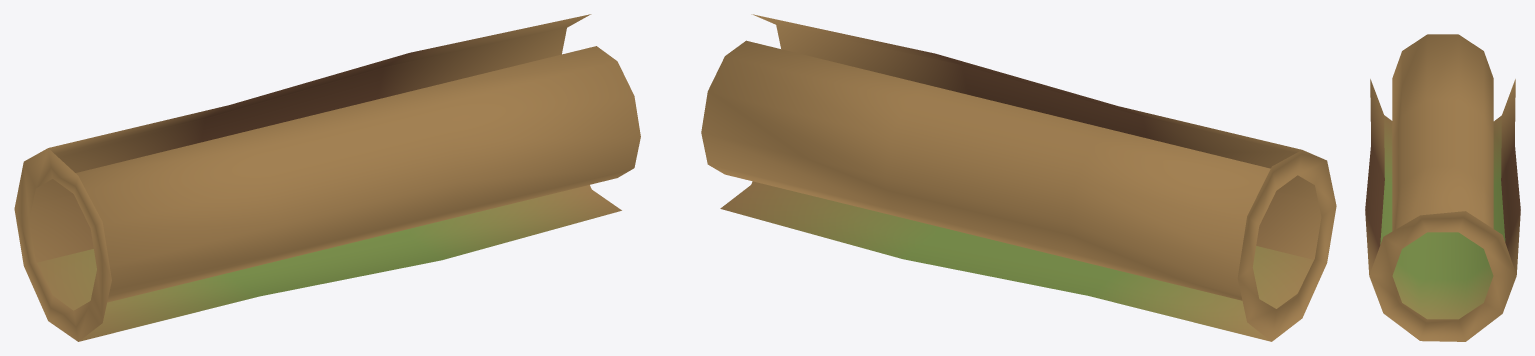
The model's file is log_0.glb.
The picture shows the model from 3 angles, left to right: view 1: azimuth 30°, elevation 25°; view 2: azimuth 150°, elevation 25°; view 3: azimuth 270°, elevation 25°; orthographic projection. The views are drawn at different scales.
Visible parts, largest first — view 1: log_0; view 2: log_0; view 3: log_0.
Boxes of the visible parts, <box> form: log_0: <box>14,14,640,341</box>; log_0: <box>701,14,1336,341</box>; log_0: <box>1365,34,1520,341</box>.
Bounding box in the file's own units: 2.65 × 0.8616 × 0.8803.
